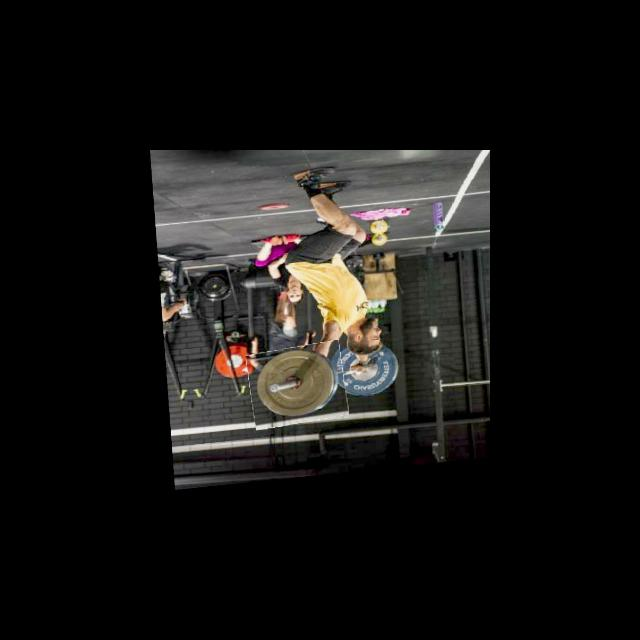barbell: (244, 344, 344, 431)
